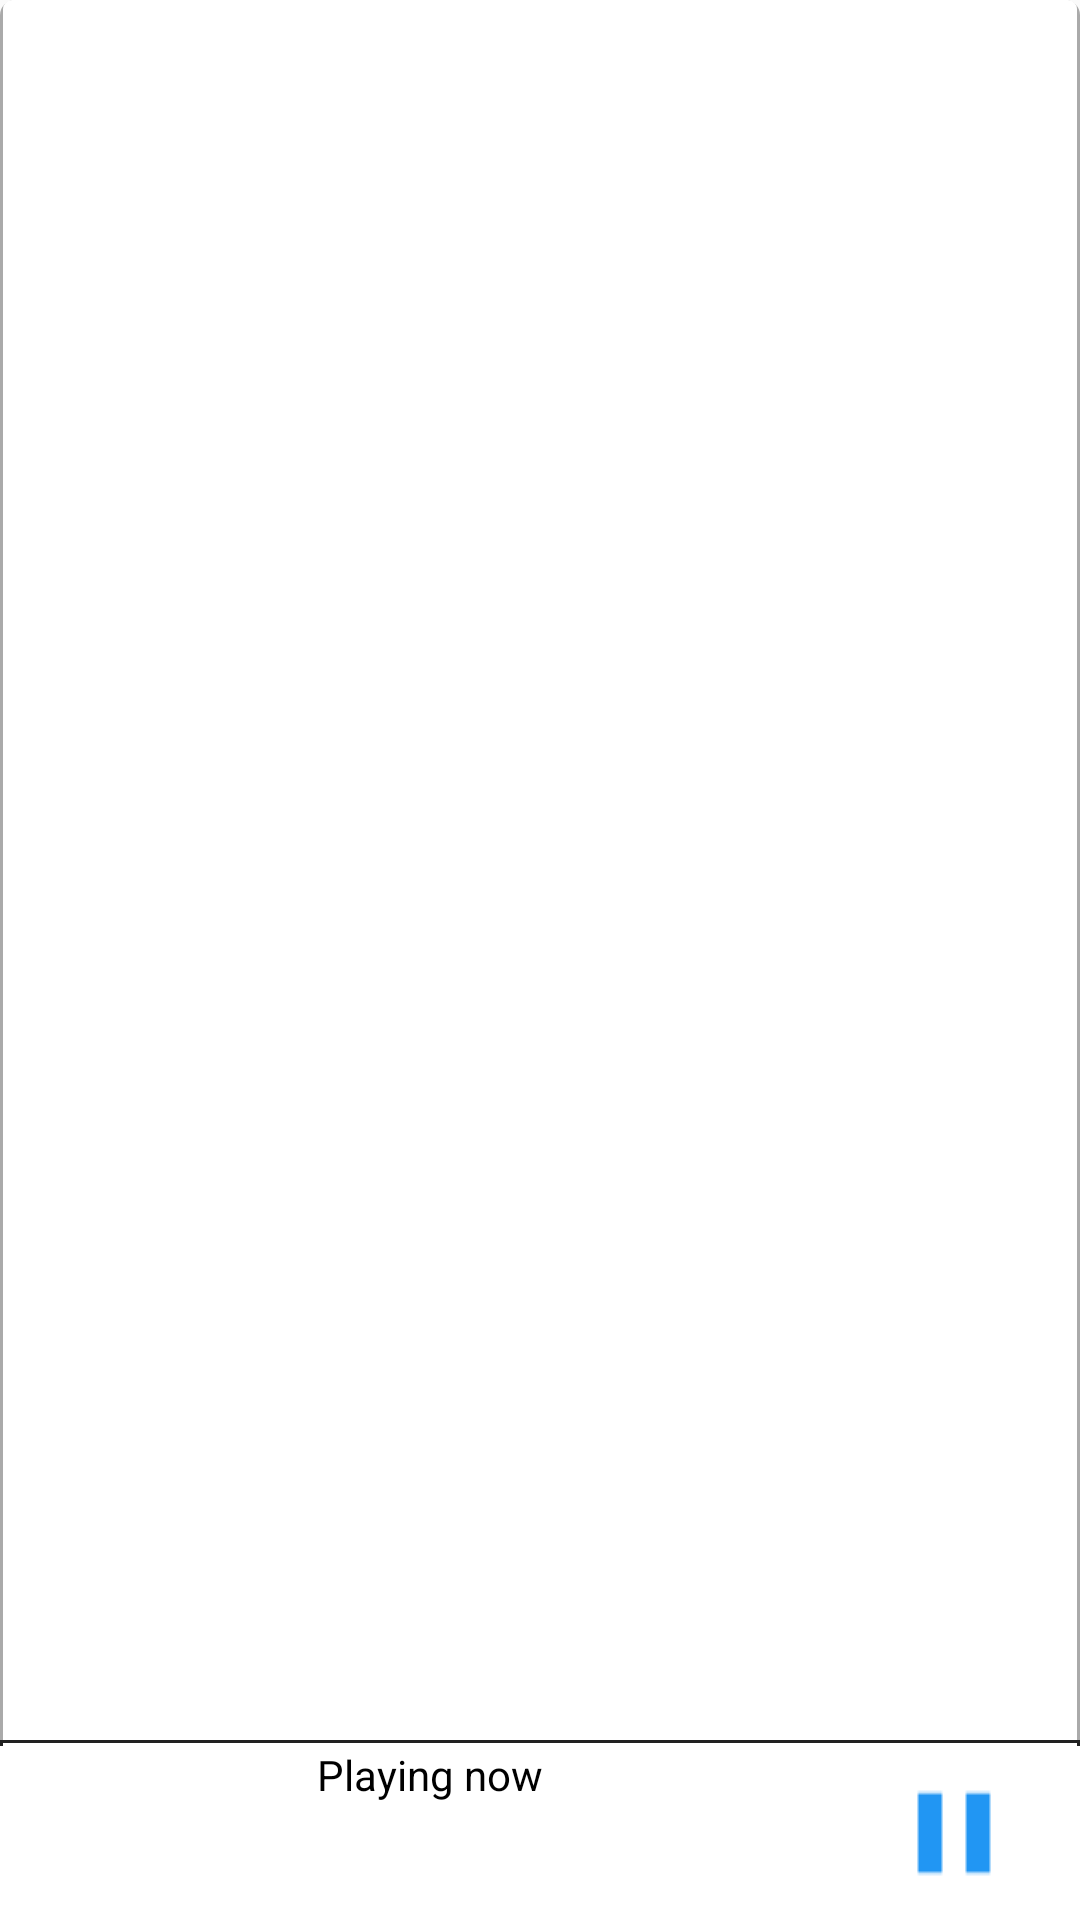

Where to tap for icons on this 1080px x 1920px app screen, as point (x, y):
pause: point (954, 1833)
